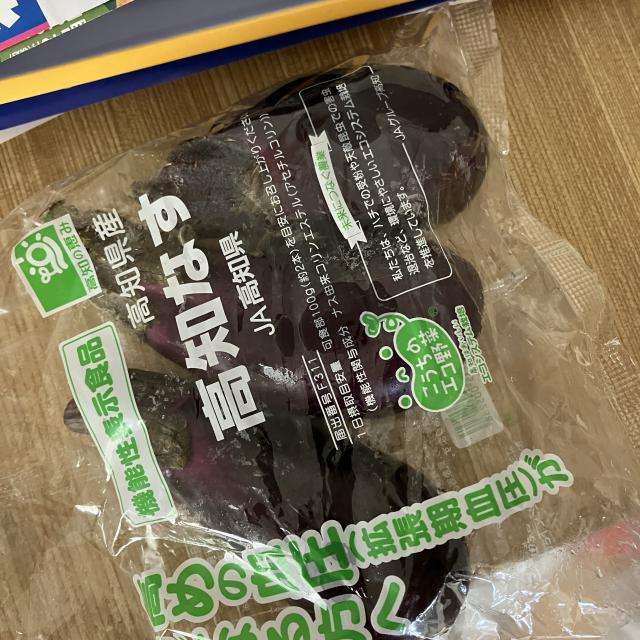eggplant: (61, 363, 472, 640), (43, 59, 496, 284), (81, 235, 488, 419)
